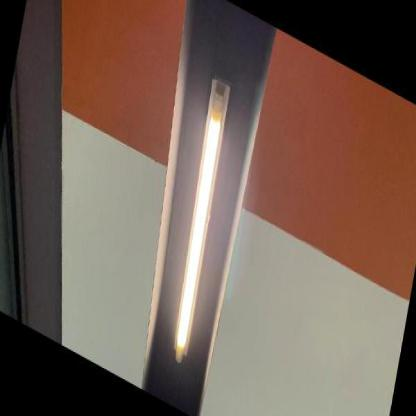light_on: (155, 68, 242, 376)
